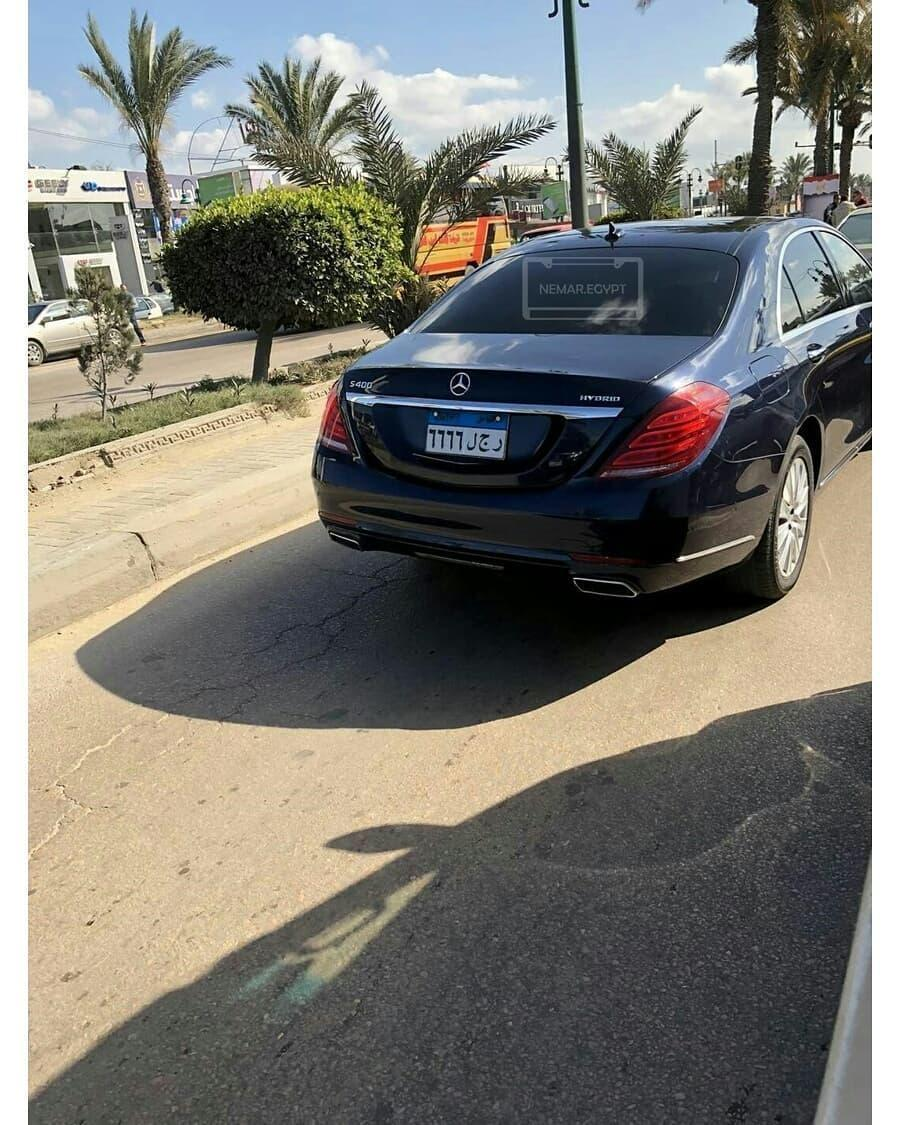6: (428, 427, 437, 450), (455, 430, 464, 452), (438, 429, 446, 450), (447, 428, 454, 451)
Laam: (466, 430, 478, 452)
License Plate: (422, 406, 511, 462)
R: (491, 435, 503, 455)
car: (312, 222, 872, 596), (30, 297, 119, 366)
geem: (478, 432, 491, 454)
